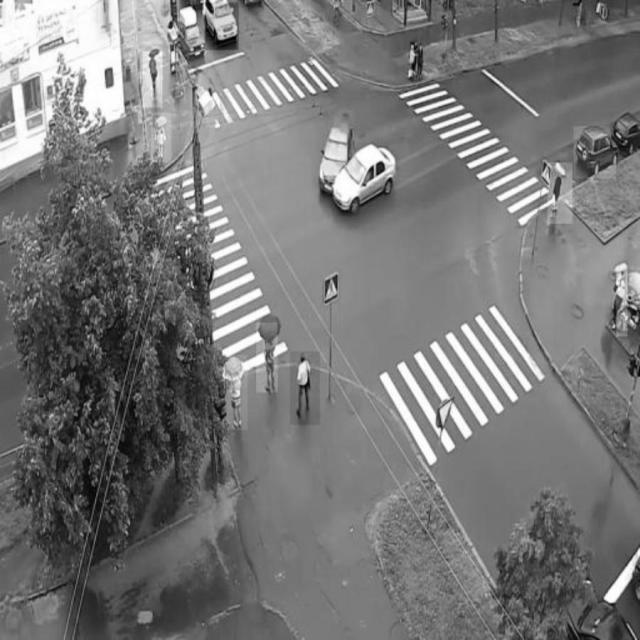accident: (318, 131, 398, 211)
person: (291, 352, 321, 425), (548, 163, 573, 224), (227, 355, 247, 431), (256, 323, 276, 393), (142, 52, 162, 108), (152, 112, 172, 162), (617, 268, 627, 336), (414, 38, 422, 84), (410, 43, 416, 85)
vehicle: (574, 127, 616, 179), (205, 3, 239, 50), (181, 10, 207, 71), (610, 112, 640, 152)
